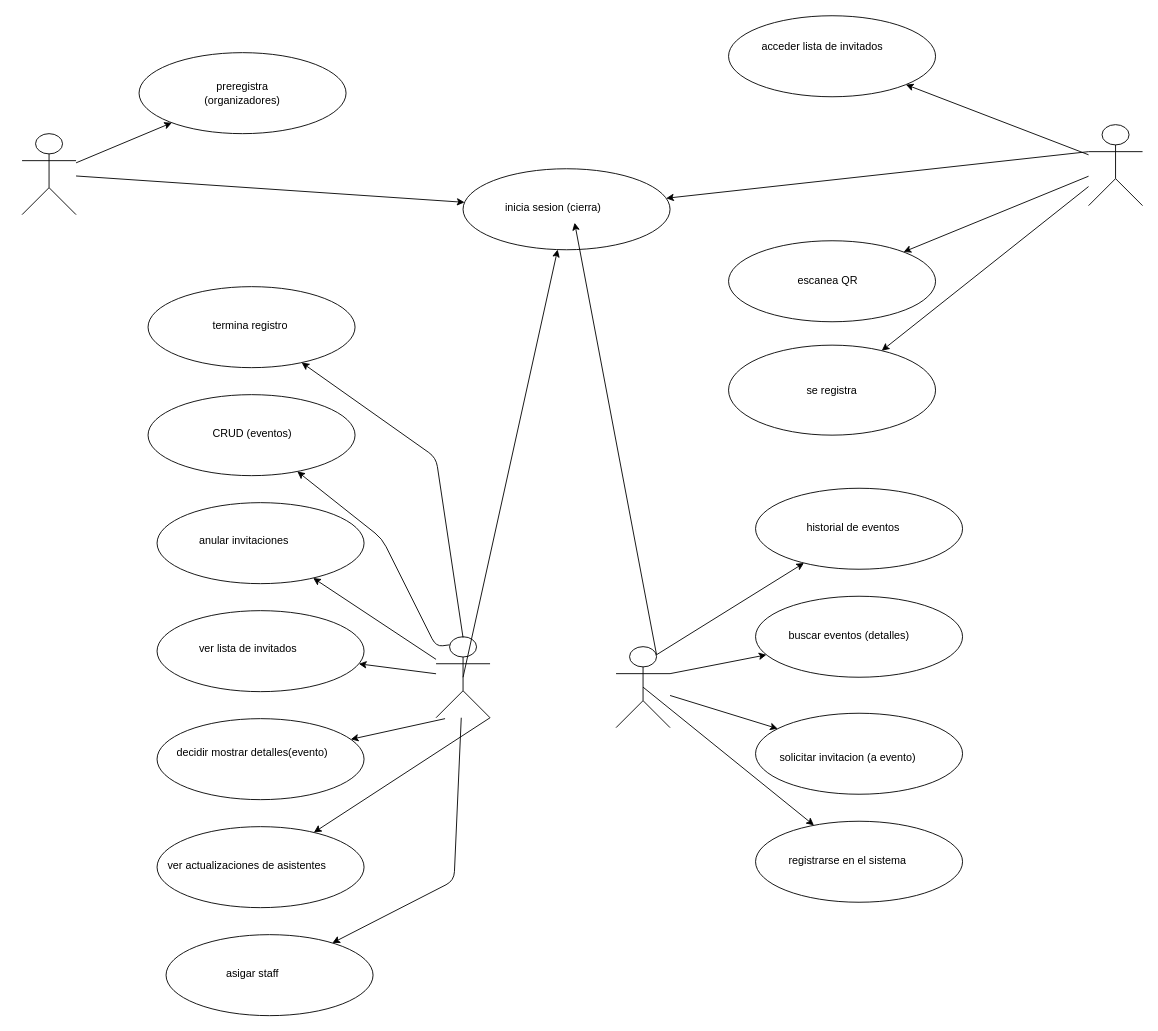
Image size: 1158x1031. Some labels were removed from this diagram. The shapes that lost their labels are listed below. From the top down, each one's centre as x and y in pixels, then its label:
At (x=48, y=174): "Administrador".
At (x=1115, y=165): "Staff".
At (x=462, y=677): "Organizador de Eventos".
At (x=642, y=687): "Visitante".
